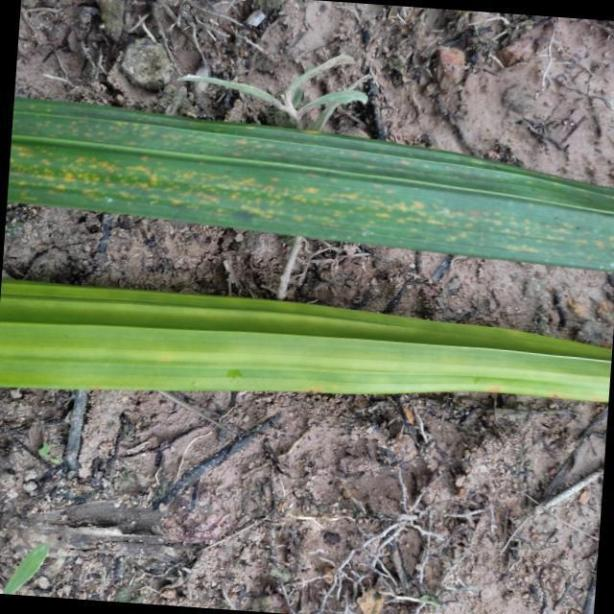nitrogen: (11, 93, 614, 267), (0, 270, 614, 411)
